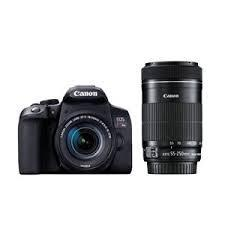degital-camera: (16, 83, 138, 179)
